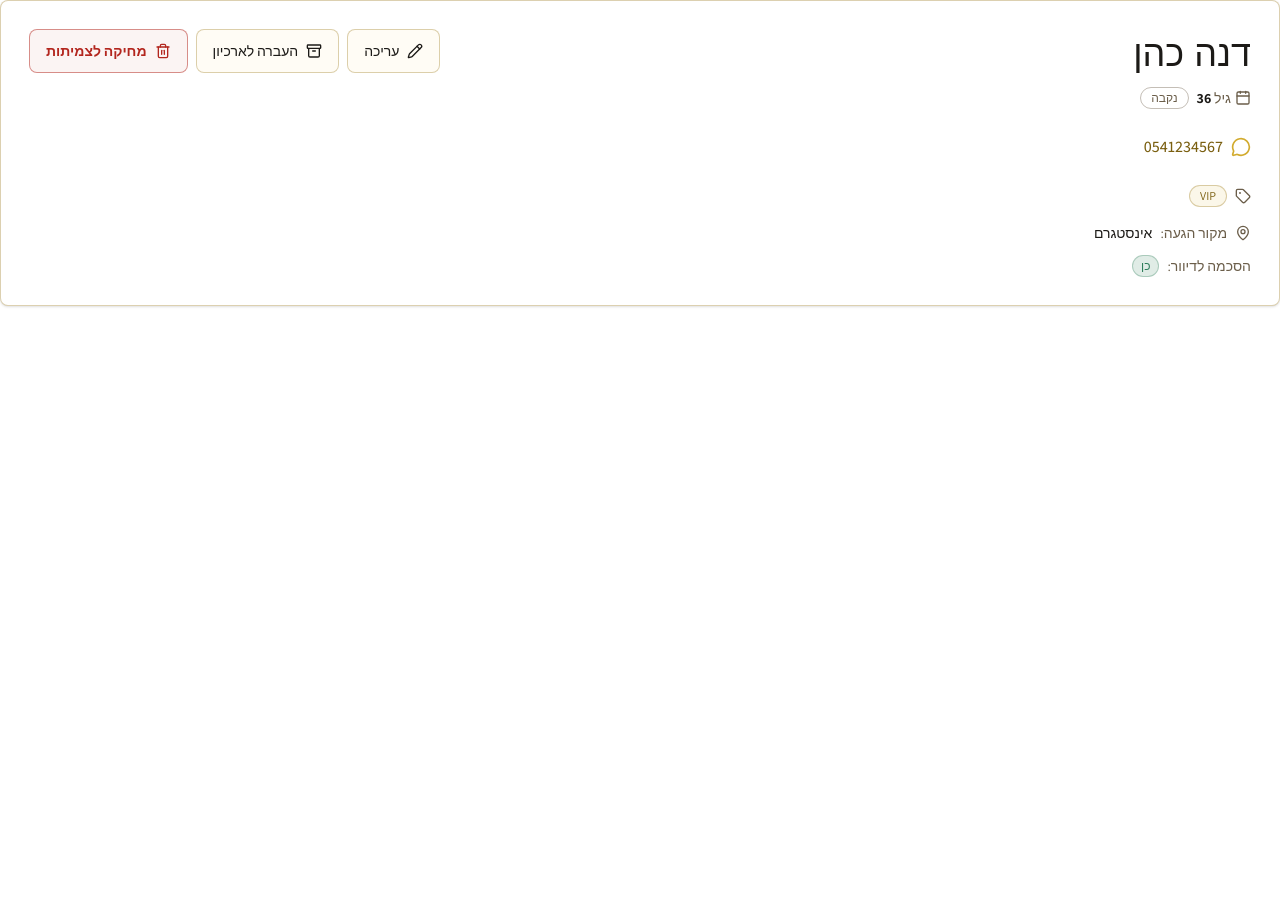
Test case: EditClientDialog — 409 טלפון שונה למספר קיים › מציג הודעה עברית + קישור לכרטיס הקיים; אינו מרענן
Click the button "עריכה" at (394, 51), box x1=347 y1=29 x2=440 y2=73
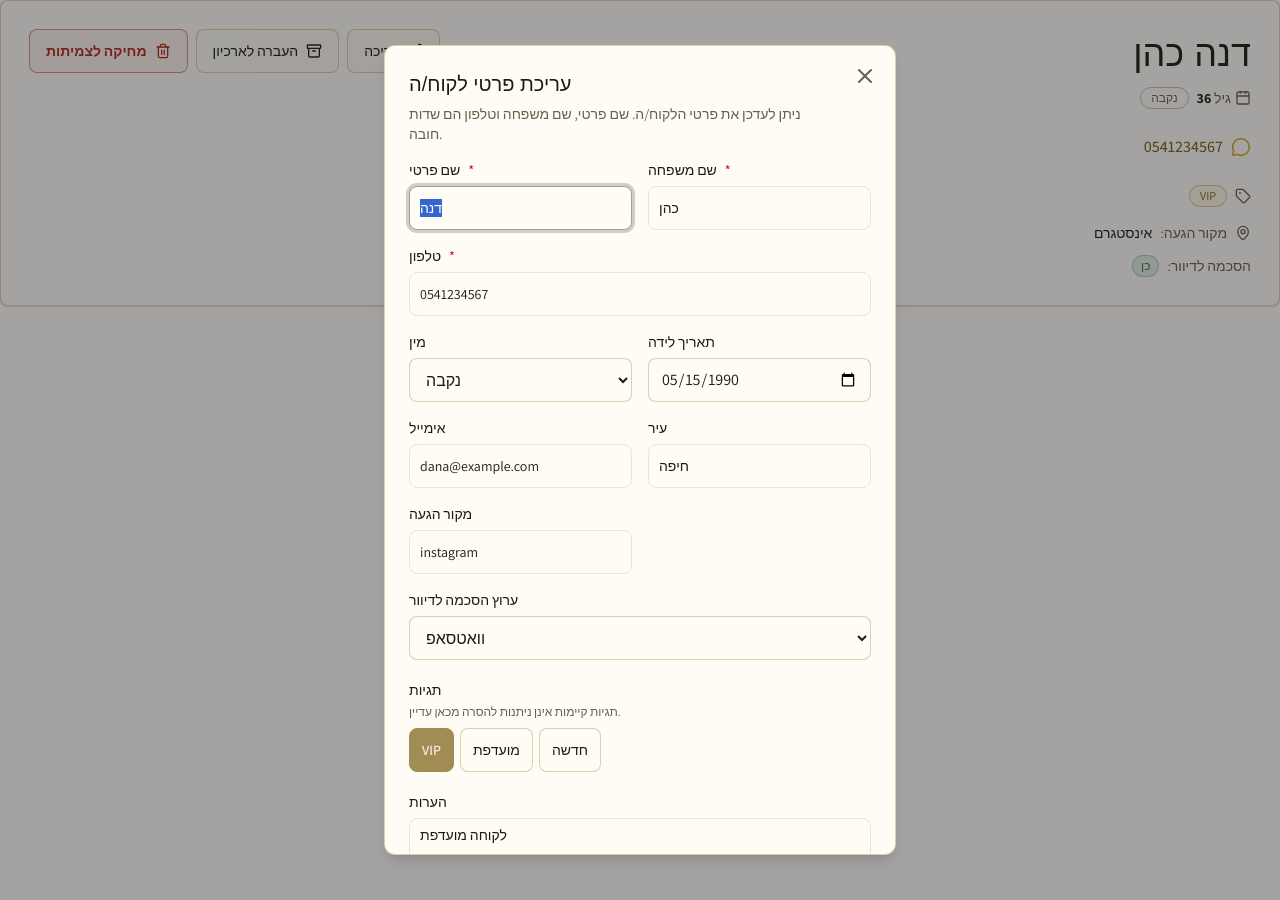
Replace the text in the field with id "ec-phone" with "0529999999" at (640, 294), box x1=409 y1=272 x2=871 y2=316
(page scrolled)
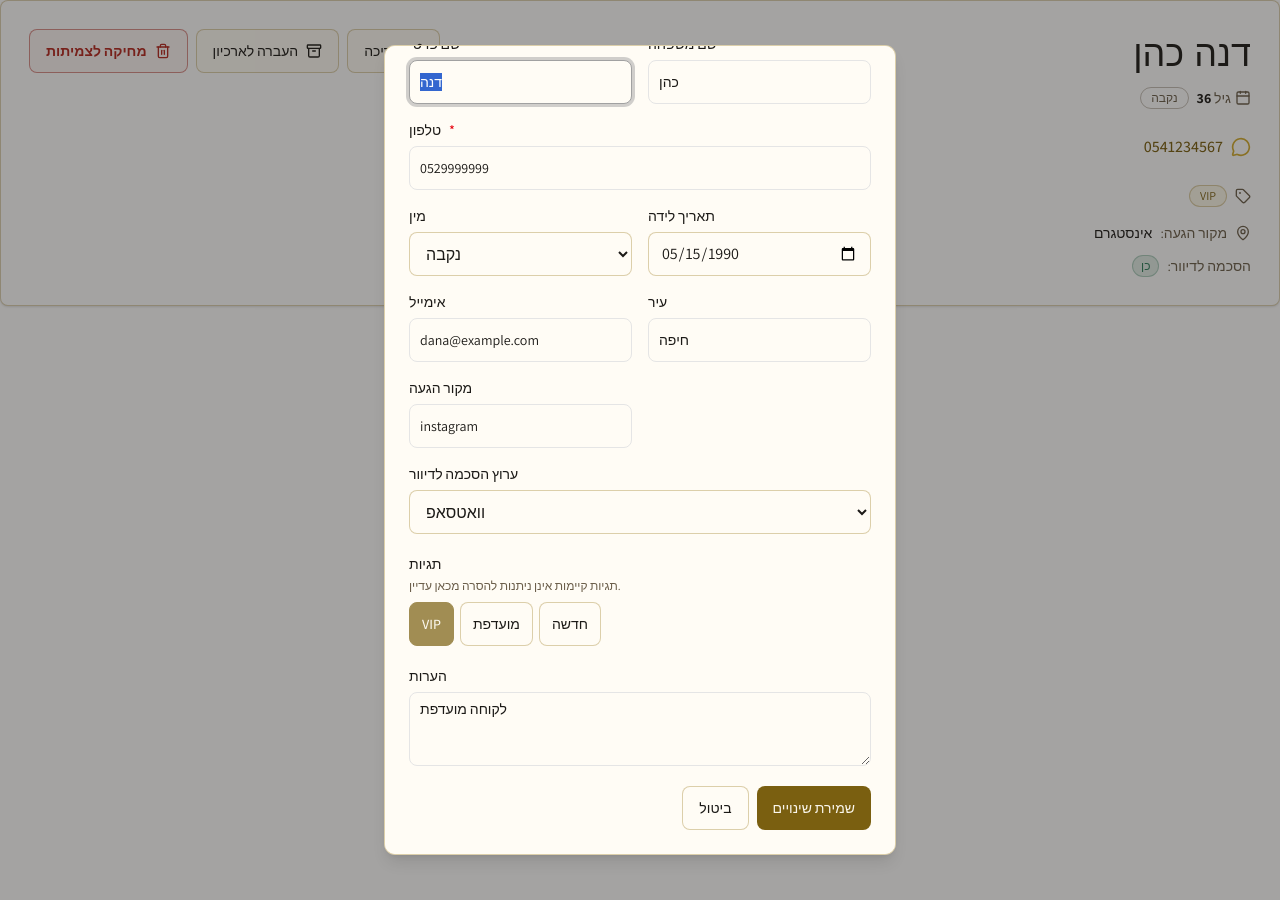
Click the button "שמירת שינויים" at (814, 808), box x1=756 y1=786 x2=871 y2=830
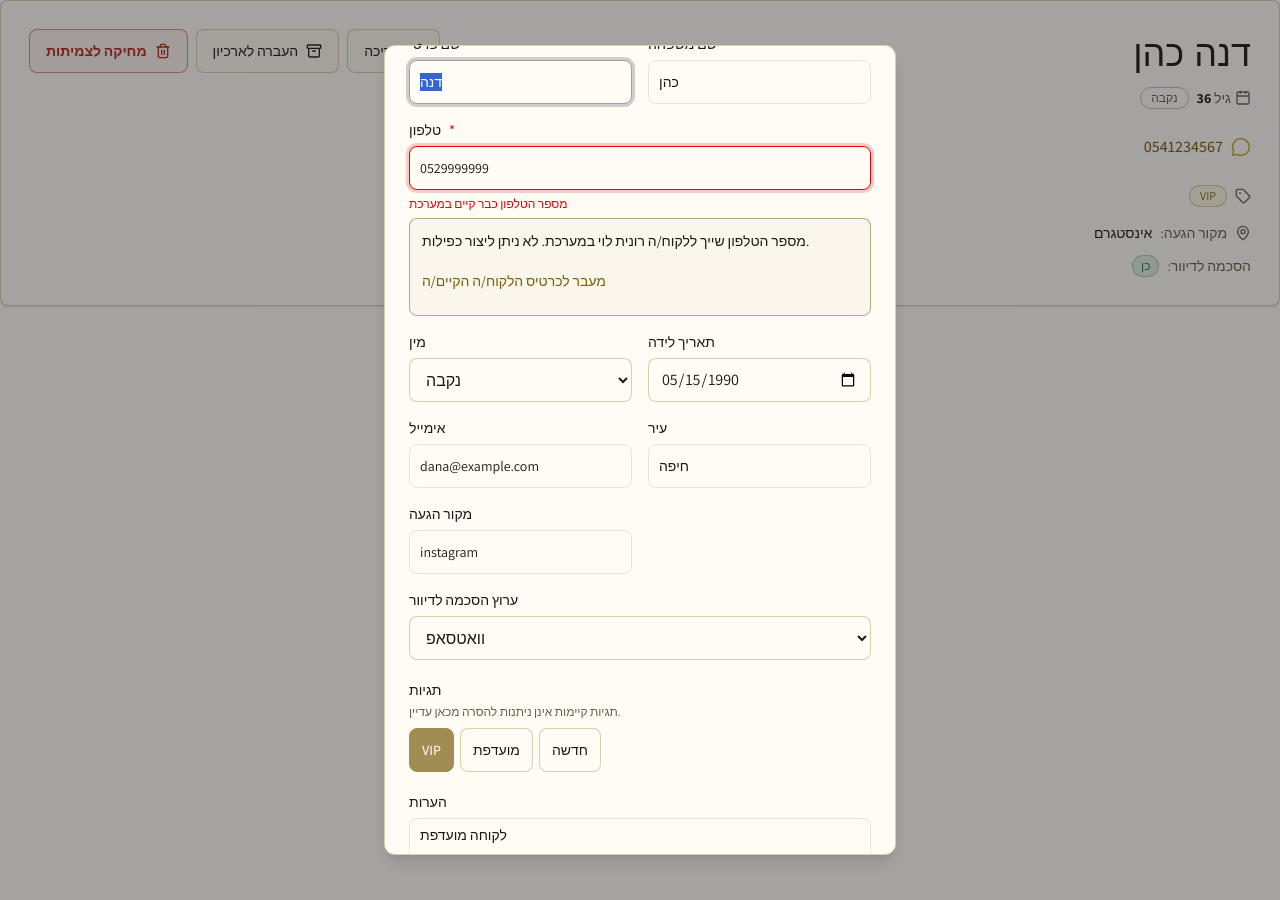
Check: the text "מספר הטלפון שייך ללקוח/ה רונית לוי" is shown, box x1=422 y1=231 x2=858 y2=251
